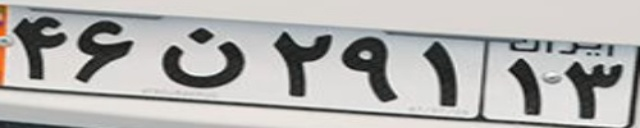1: (421, 39, 459, 107), (505, 56, 540, 114)
2: (269, 29, 334, 97)
3: (563, 58, 623, 119)
4: (12, 14, 65, 80)
6: (73, 17, 134, 82)
9: (340, 35, 400, 101)
non: (162, 26, 246, 87)
